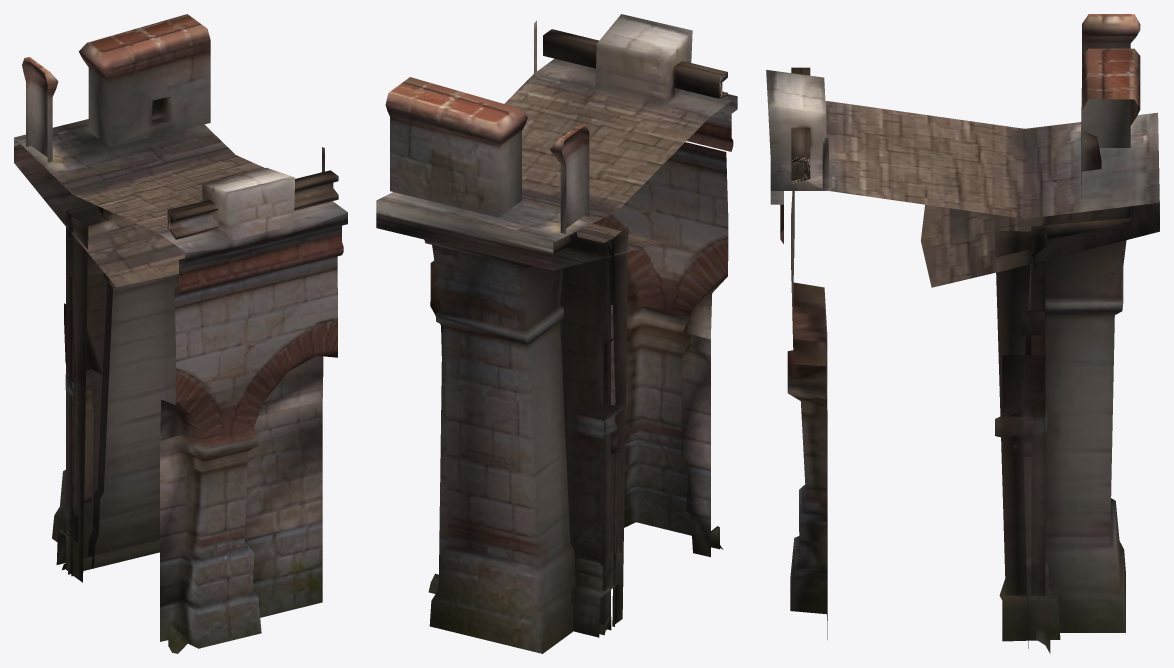
The model's file is WallRunLeft_28.fbx.
3 renders of one model, left to right at view 1: azimuth 30°, elevation 25°; view 2: azimuth 150°, elevation 25°; view 3: azimuth 270°, elevation 25°, orthographic. The views are drawn at different scales.
Visible parts, largest first — view 1: Imported wall section.056; view 2: Imported wall section.056; view 3: Imported wall section.056.
Part boxes in pixels (box(x1,y1,x2,y2)): Imported wall section.056: box(14, 14, 347, 653); Imported wall section.056: box(376, 14, 737, 653); Imported wall section.056: box(766, 14, 1159, 653).
Size of the model in its own units: 200 by 576 by 369.
1 material, 1 textured.
